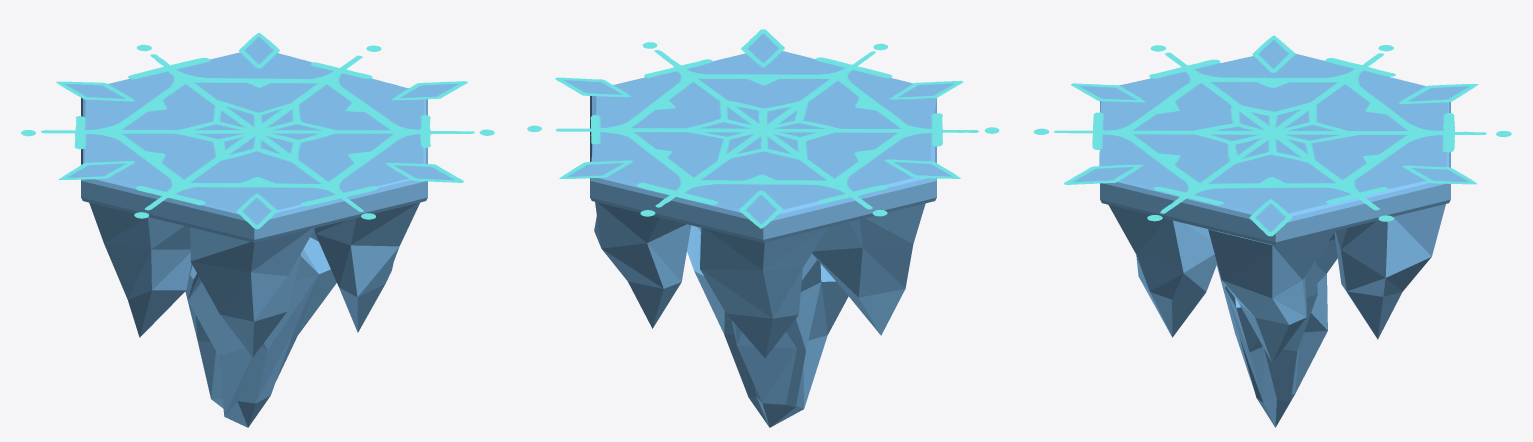
File: connect_ice.fbx
The picture shows the model from 3 angles, left to right: view 1: azimuth 30°, elevation 25°; view 2: azimuth 150°, elevation 25°; view 3: azimuth 270°, elevation 25°; orthographic projection.
Parts seen in each view (by area): view 1: connecct_ice, connect; view 2: connecct_ice, connect; view 3: connecct_ice, connect.
Boxes of the visible parts, x1,y1,x2,y2 form: connecct_ice: (21, 33, 494, 229); connect: (81, 98, 427, 427); connecct_ice: (527, 29, 999, 228); connect: (590, 96, 936, 427); connecct_ice: (1034, 35, 1511, 236); connect: (1100, 101, 1450, 427).
Size of the model in its own units: 360 by 211 by 312.
2 materials, 2 textured.
